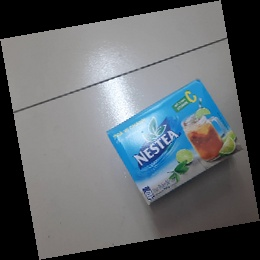Nestea: (105, 77, 243, 206)
